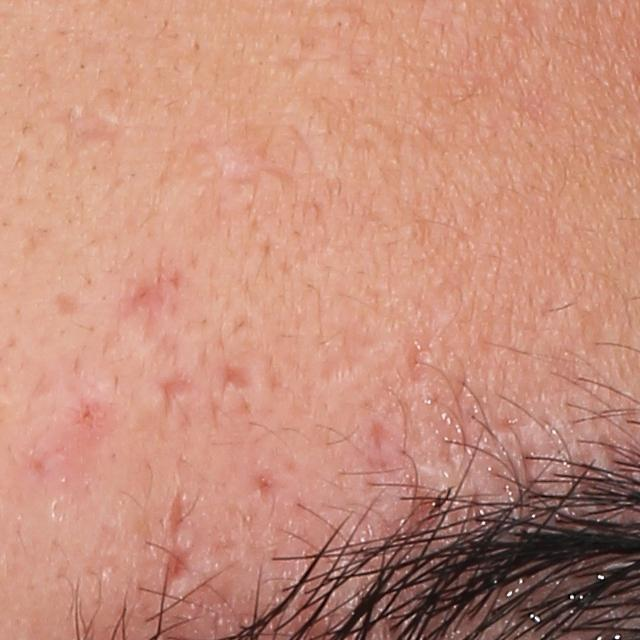atrophic_scar: (312, 310, 392, 390), (46, 105, 129, 157), (157, 373, 201, 416), (163, 546, 193, 593), (404, 338, 432, 387), (49, 286, 85, 319), (218, 362, 251, 397), (168, 492, 183, 547), (364, 419, 384, 457)
